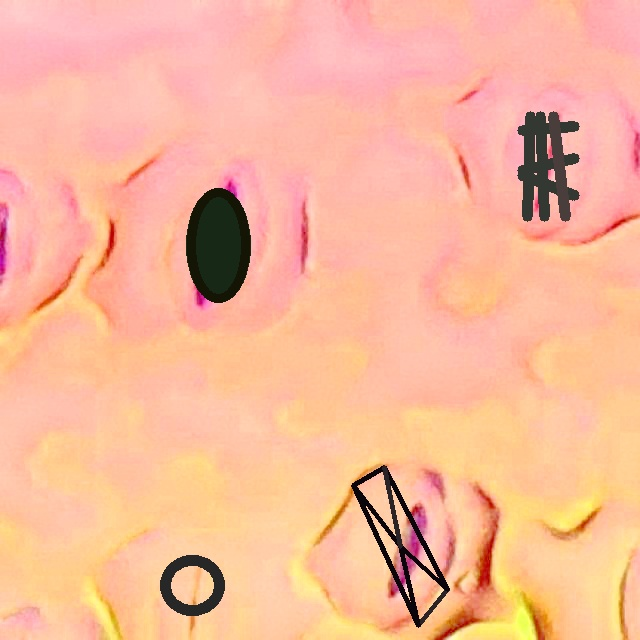close: (159, 555, 224, 615)
open: (351, 465, 449, 627), (186, 188, 250, 302), (518, 111, 578, 221)
